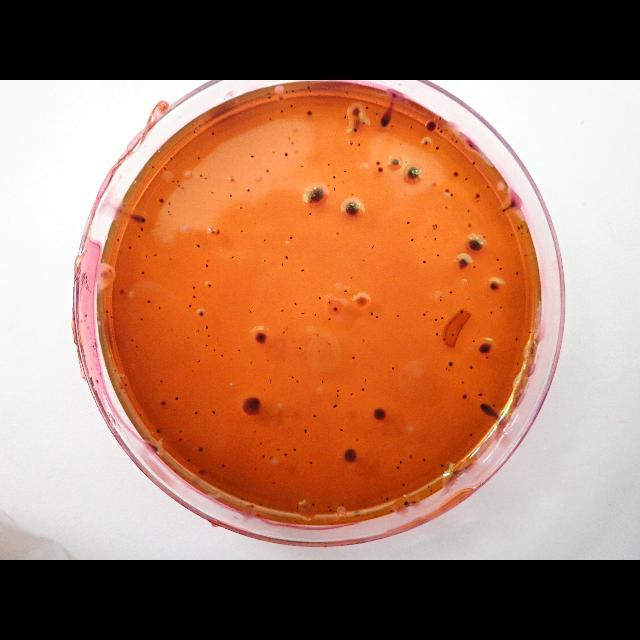colony: (240, 396, 262, 416), (342, 446, 358, 464), (308, 186, 324, 204), (479, 402, 496, 418), (345, 201, 361, 217), (381, 109, 391, 131), (469, 238, 483, 252), (372, 408, 388, 420), (407, 167, 421, 180), (255, 331, 268, 344), (479, 342, 493, 353), (132, 214, 146, 223), (426, 120, 436, 132), (458, 258, 468, 268), (351, 106, 361, 115), (490, 282, 500, 290), (391, 158, 399, 166), (468, 142, 474, 150), (354, 510, 361, 516), (118, 289, 125, 295), (462, 394, 468, 400), (198, 446, 204, 452), (156, 428, 162, 434), (160, 400, 166, 406), (199, 311, 205, 317), (158, 198, 164, 204), (432, 224, 438, 230), (466, 222, 472, 228), (448, 362, 454, 366), (478, 393, 484, 397), (404, 500, 408, 506), (146, 300, 152, 304), (308, 110, 312, 116), (352, 128, 358, 132), (434, 146, 440, 150), (454, 171, 458, 177), (444, 189, 450, 193), (520, 224, 524, 230), (378, 167, 382, 173), (376, 160, 380, 166), (333, 306, 337, 312), (124, 382, 128, 388), (216, 229, 220, 235), (304, 428, 308, 434), (472, 264, 476, 270), (339, 428, 343, 432), (361, 388, 365, 392), (312, 414, 316, 418), (492, 404, 496, 408), (422, 458, 426, 462), (408, 455, 412, 459), (402, 482, 406, 486), (158, 306, 162, 310), (140, 318, 144, 322), (188, 304, 192, 308), (192, 295, 196, 299), (140, 227, 144, 231), (116, 238, 120, 242), (211, 131, 215, 135), (290, 104, 294, 108), (349, 141, 353, 145), (424, 141, 428, 145), (472, 161, 476, 165), (464, 177, 468, 181), (476, 194, 480, 198), (498, 266, 502, 270), (449, 290, 453, 294), (422, 260, 426, 264), (332, 187, 336, 191), (332, 175, 336, 179), (318, 296, 322, 300), (301, 312, 305, 316), (284, 152, 288, 156), (266, 169, 270, 173), (196, 244, 200, 248), (105, 310, 109, 314), (130, 338, 134, 342), (239, 206, 243, 210), (284, 453, 288, 457), (262, 454, 266, 458), (370, 311, 374, 315), (396, 314, 400, 318), (351, 392, 354, 396), (336, 394, 339, 398), (321, 380, 324, 384), (441, 316, 444, 320), (441, 464, 444, 468), (220, 354, 223, 358), (298, 346, 302, 349), (170, 327, 173, 331), (192, 286, 195, 290), (128, 247, 132, 250), (267, 95, 271, 98), (306, 85, 310, 88), (362, 122, 366, 125), (436, 126, 439, 130), (451, 137, 454, 141), (518, 225, 520, 231), (411, 238, 414, 242), (308, 212, 312, 215), (404, 160, 408, 163), (411, 125, 414, 129), (247, 188, 250, 192), (376, 314, 378, 320), (351, 276, 354, 280), (187, 336, 190, 339), (326, 185, 329, 188), (356, 438, 358, 442), (364, 378, 366, 382), (336, 390, 340, 392), (335, 404, 337, 408), (292, 375, 294, 379), (392, 367, 394, 371), (448, 368, 450, 372), (462, 381, 464, 385), (486, 356, 488, 360), (436, 332, 438, 336), (460, 310, 464, 312), (435, 318, 437, 322), (422, 314, 426, 316), (517, 362, 519, 366), (470, 433, 472, 437), (400, 460, 402, 464), (430, 488, 432, 492), (386, 497, 388, 501), (389, 510, 393, 512), (330, 508, 332, 512), (259, 504, 263, 506), (252, 504, 254, 508), (222, 464, 224, 468), (202, 470, 204, 474), (198, 472, 202, 474), (188, 458, 190, 462), (176, 397, 178, 401), (214, 348, 216, 352), (238, 348, 240, 352), (270, 379, 272, 383), (316, 334, 320, 336), (280, 309, 284, 311), (250, 310, 252, 314), (206, 325, 208, 329), (197, 329, 199, 333), (208, 334, 210, 338), (208, 284, 212, 286), (141, 272, 145, 274), (145, 255, 147, 259), (138, 235, 142, 237), (198, 156, 200, 160), (281, 110, 283, 114), (286, 90, 288, 94), (344, 115, 346, 119), (366, 106, 368, 110), (376, 112, 378, 116), (358, 143, 360, 147), (438, 118, 442, 120), (440, 130, 442, 134), (456, 140, 458, 144), (496, 258, 498, 262), (516, 271, 518, 275), (440, 298, 442, 302), (434, 237, 436, 241), (344, 290, 348, 292), (328, 300, 330, 304), (328, 318, 332, 320), (294, 302, 296, 306), (250, 156, 254, 158), (290, 142, 294, 144), (300, 165, 304, 167), (343, 170, 347, 172), (362, 259, 366, 261), (302, 268, 304, 272), (281, 263, 283, 267), (264, 238, 266, 242), (290, 236, 292, 240), (232, 256, 234, 260), (206, 264, 208, 268), (110, 316, 114, 318), (136, 344, 138, 348), (179, 464, 181, 468), (272, 482, 276, 484), (375, 100, 377, 104), (391, 124, 393, 128), (230, 194, 232, 198), (294, 448, 296, 452), (309, 462, 313, 464), (260, 442, 262, 446), (270, 456, 272, 460), (352, 356, 354, 360), (296, 381, 298, 384), (529, 331, 531, 334), (396, 466, 399, 468), (195, 412, 198, 414), (212, 411, 214, 414), (160, 380, 163, 382), (205, 344, 208, 346), (168, 202, 170, 205), (200, 175, 202, 178), (205, 177, 208, 179), (210, 192, 213, 194), (346, 92, 348, 95), (451, 194, 454, 196), (445, 207, 447, 210), (511, 234, 514, 236), (436, 254, 439, 256), (406, 222, 409, 224), (351, 192, 353, 195), (240, 230, 243, 232), (333, 406, 335, 408), (445, 368, 447, 370), (470, 366, 472, 368), (472, 340, 474, 342), (452, 334, 454, 336), (443, 338, 445, 340), (490, 312, 492, 314), (500, 306, 502, 308), (515, 338, 517, 340), (428, 486, 430, 488), (381, 496, 383, 498), (342, 503, 344, 505), (328, 506, 330, 508), (312, 504, 314, 506), (297, 506, 299, 508), (179, 438, 181, 440), (180, 430, 182, 432), (198, 360, 200, 362), (230, 358, 232, 360), (250, 362, 252, 364), (318, 350, 320, 352), (154, 254, 156, 256), (168, 211, 170, 213), (169, 214, 171, 216), (178, 185, 180, 187), (176, 180, 178, 182), (172, 181, 174, 183), (170, 158, 172, 160), (152, 166, 154, 168), (194, 131, 196, 133), (292, 90, 294, 92), (309, 90, 311, 92), (476, 200, 478, 202), (467, 210, 469, 212), (527, 230, 529, 232), (483, 236, 485, 238), (524, 254, 526, 256), (372, 246, 374, 248), (314, 314, 316, 316), (270, 118, 272, 120), (328, 164, 330, 166), (336, 232, 338, 234), (286, 256, 288, 258), (264, 260, 266, 262), (207, 260, 209, 262), (114, 370, 116, 372), (139, 414, 141, 416), (175, 470, 177, 472), (169, 258, 171, 260)
